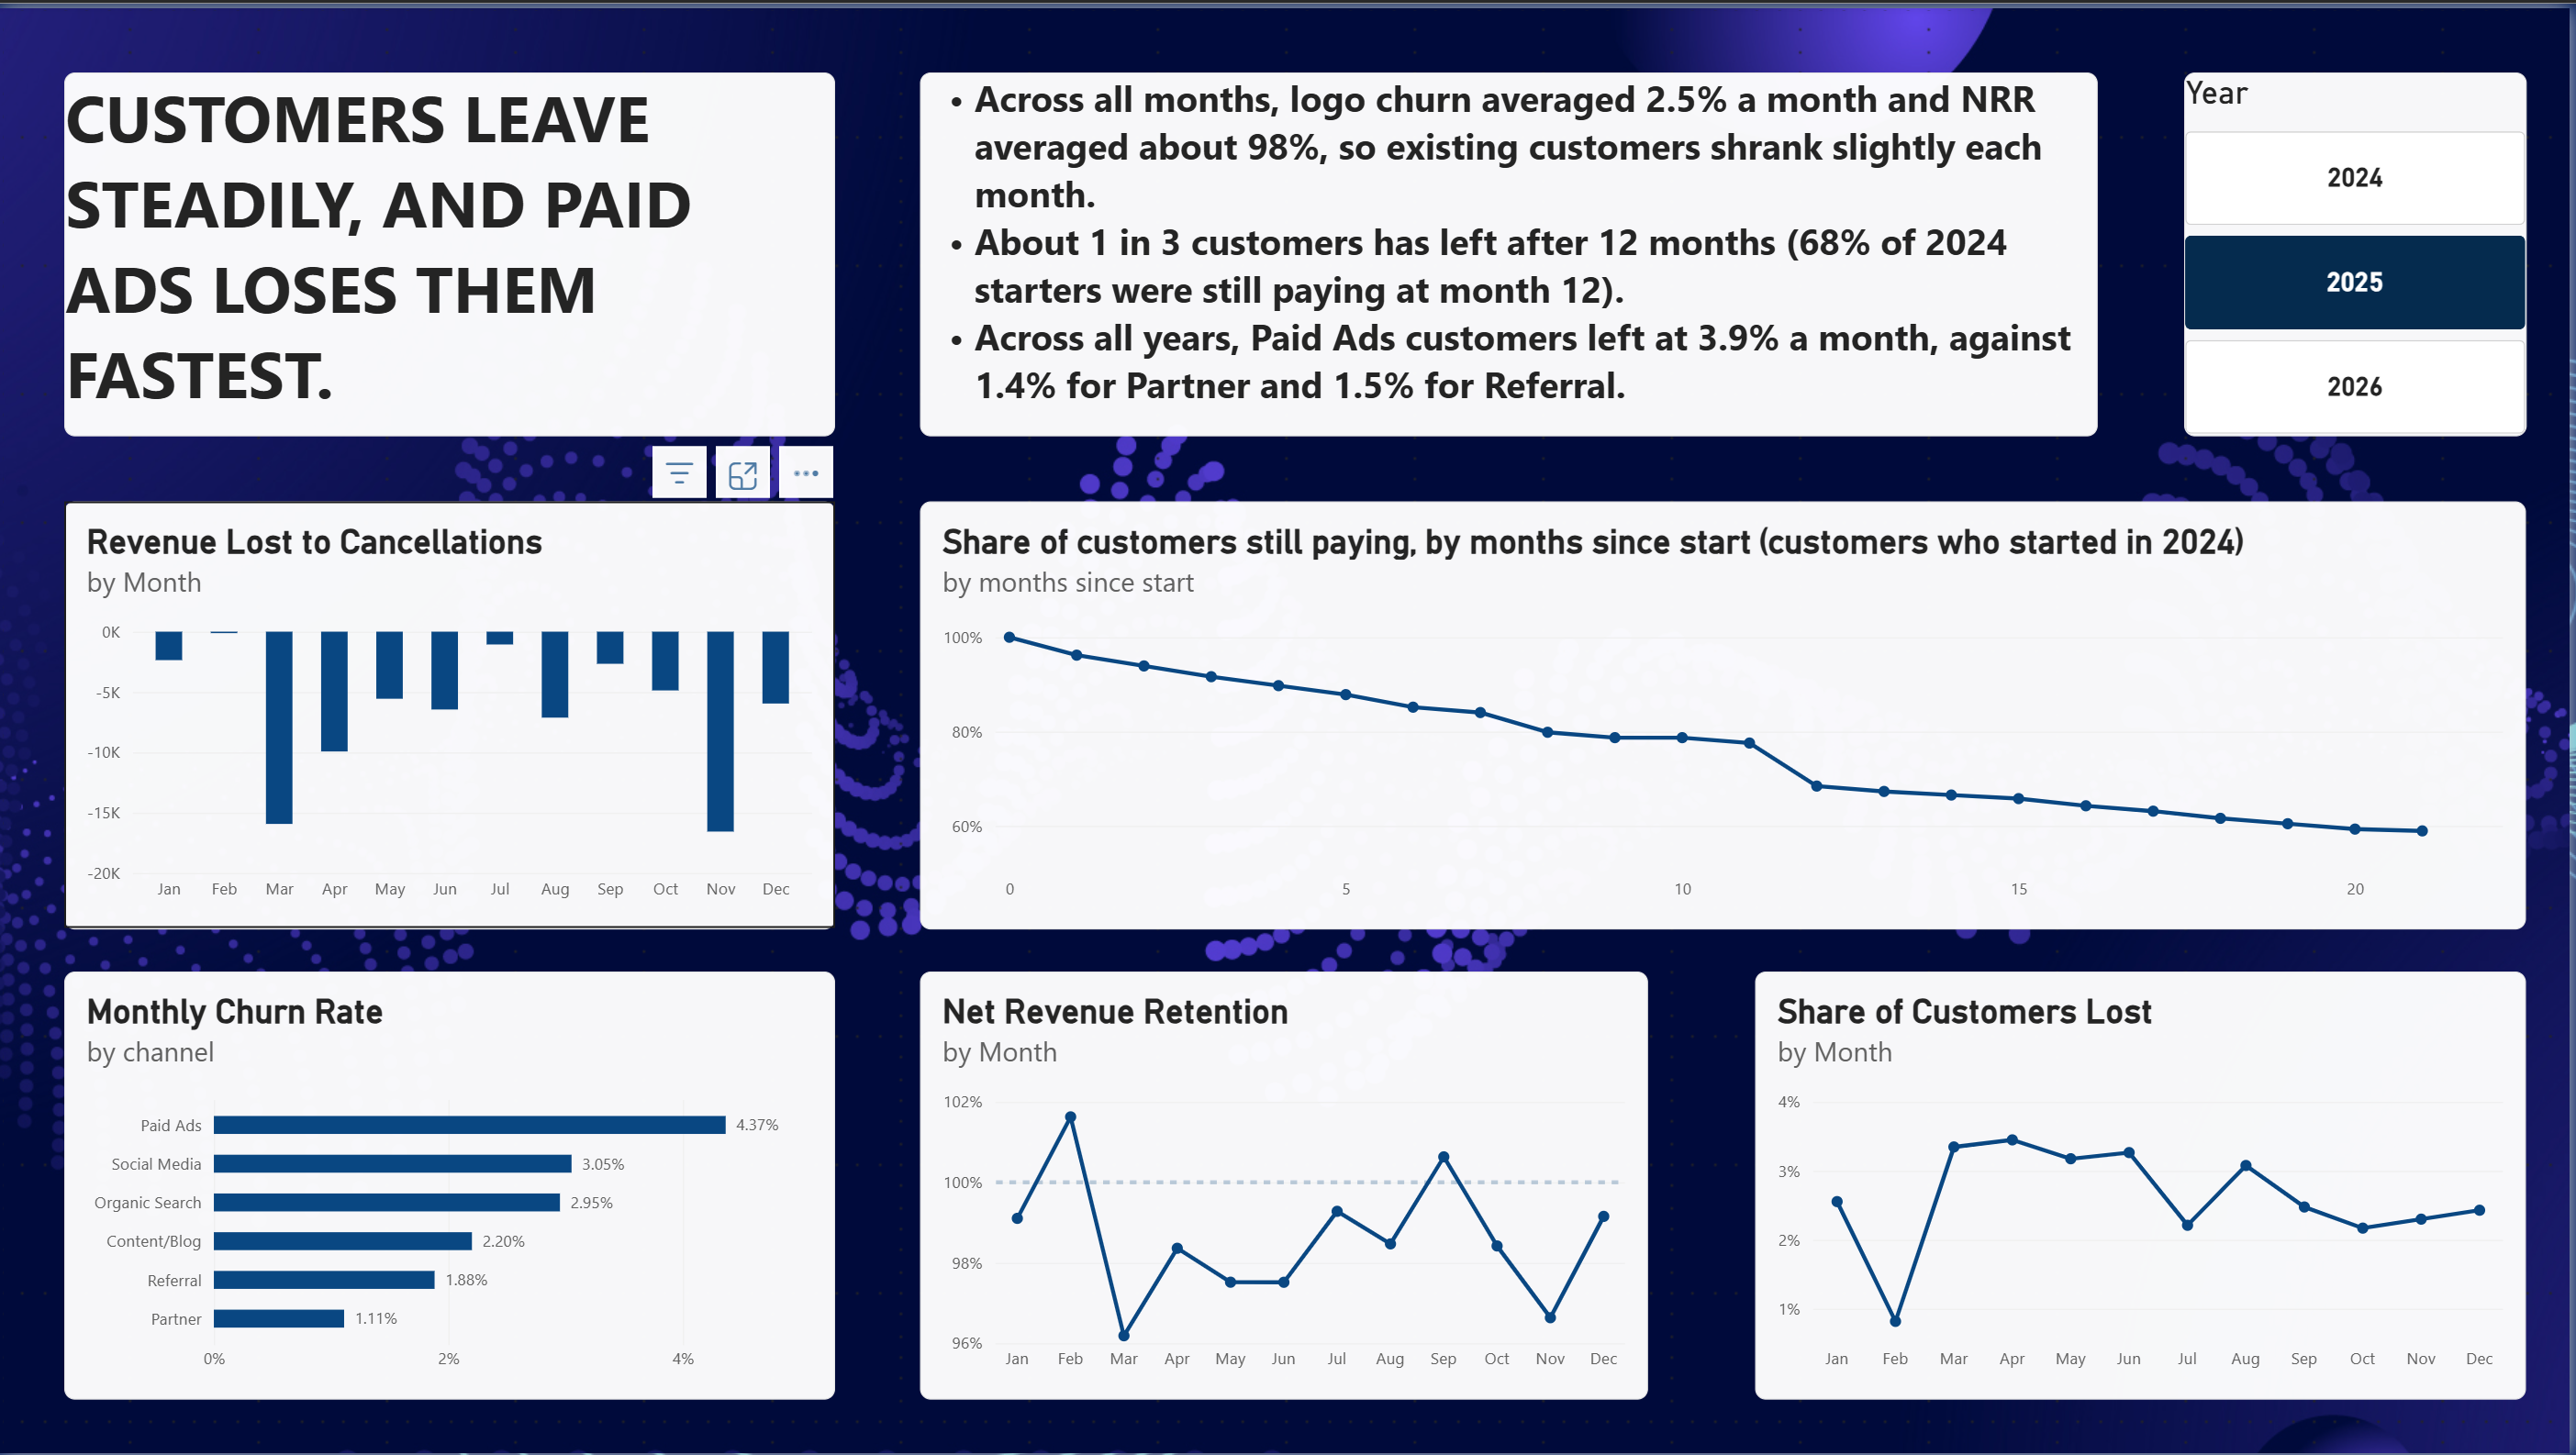

The page's visual inventory and layout, read from the dashboard file:
{"tool":"powerbi","page":{"name":"Retention","canvas":[1920,1080],"ordinal":2},"visuals":[{"type":"lineChart","title":"Share of customers still paying, by months since start (customers who started in 2024)","fields":{"Category":["cohort_retention.months_since_start"],"Y":["cohort_retention.Retention %"]},"box":[688,368,1200,320],"z":0},{"type":"lineChart","title":"Share of Customers Lost","fields":{"Y":["core_measures.Logo Churn %"],"Category":["Date.Month"]},"box":[1312,720,576,320],"z":1000},{"type":"lineChart","title":"Net Revenue Retention","fields":{"Y":["core_measures.NRR"],"Category":["Date.Month"]},"box":[688,720,544,320],"z":2000},{"type":"barChart","fields":{"Category":["channels.channel"],"Y":["core_measures.Monthly Churn Rate"]},"box":[48,720,576,320],"z":3000},{"type":"columnChart","title":"Revenue Lost to Cancellations","fields":{"Y":["core_measures.Churned MRR"],"Category":["Date.Month"]},"box":[48,368,576,320],"z":4000},{"type":"advancedSlicerVisual","fields":{"Values":["Date.Year"]},"box":[1632,48,256,272],"z":5000},{"type":"textbox","box":[48,48,576,272],"z":6000},{"type":"textbox","box":[688,48,880,272],"z":7000}]}

Visuals, with their boxes in screenshot pixels (x1, y1, x2, y2), scaled from the page's 1920x1080 canvas onto the 2576x1455 screenshot:
"Share of customers still paying, by months since start (customers who started in 2024)" lineChart: <box>923,495,2533,927</box>
"Share of Customers Lost" lineChart: <box>1760,970,2533,1401</box>
"Net Revenue Retention" lineChart: <box>923,970,1653,1401</box>
barChart - channels.channel x core_measures.Monthly Churn Rate: <box>64,970,837,1401</box>
"Revenue Lost to Cancellations" columnChart: <box>64,495,837,927</box>
advancedSlicerVisual - Date.Year: <box>2190,64,2533,431</box>
textbox: <box>64,64,837,431</box>
textbox: <box>923,64,2103,431</box>
